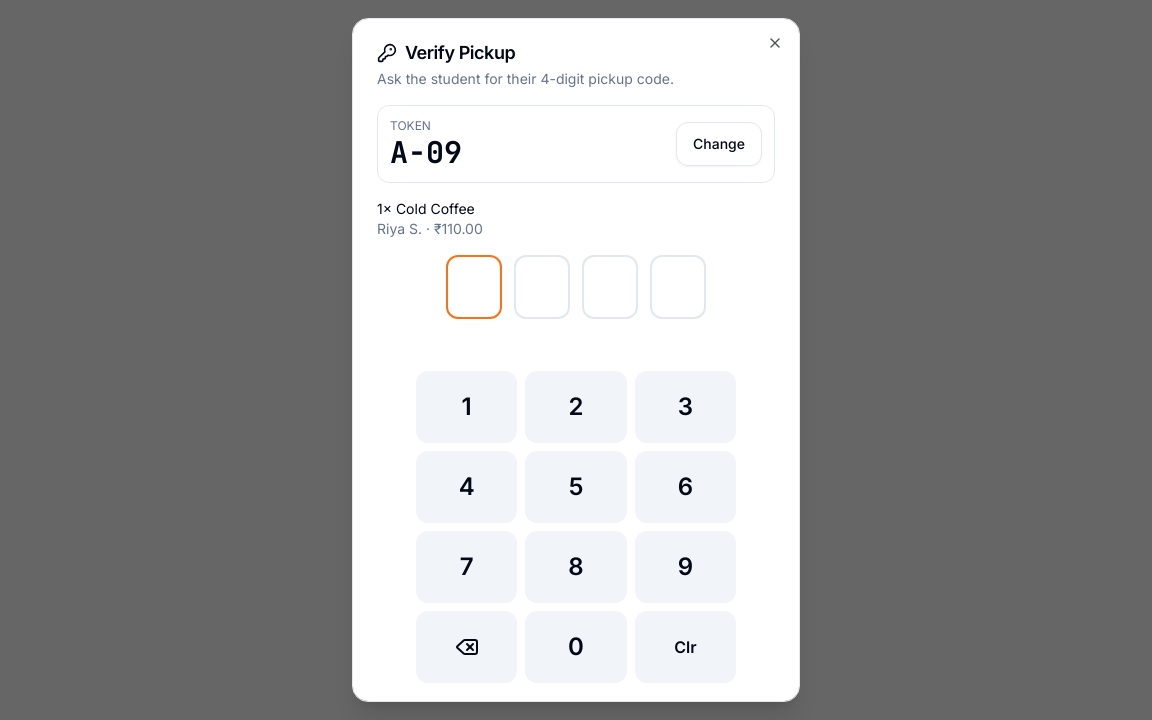
Scenario: PickupVerifyModal › wrong code shows attempts left and clears the boxes
The image size is (1152, 720).
Click the button "1": (467, 407) [416,371,517,443]
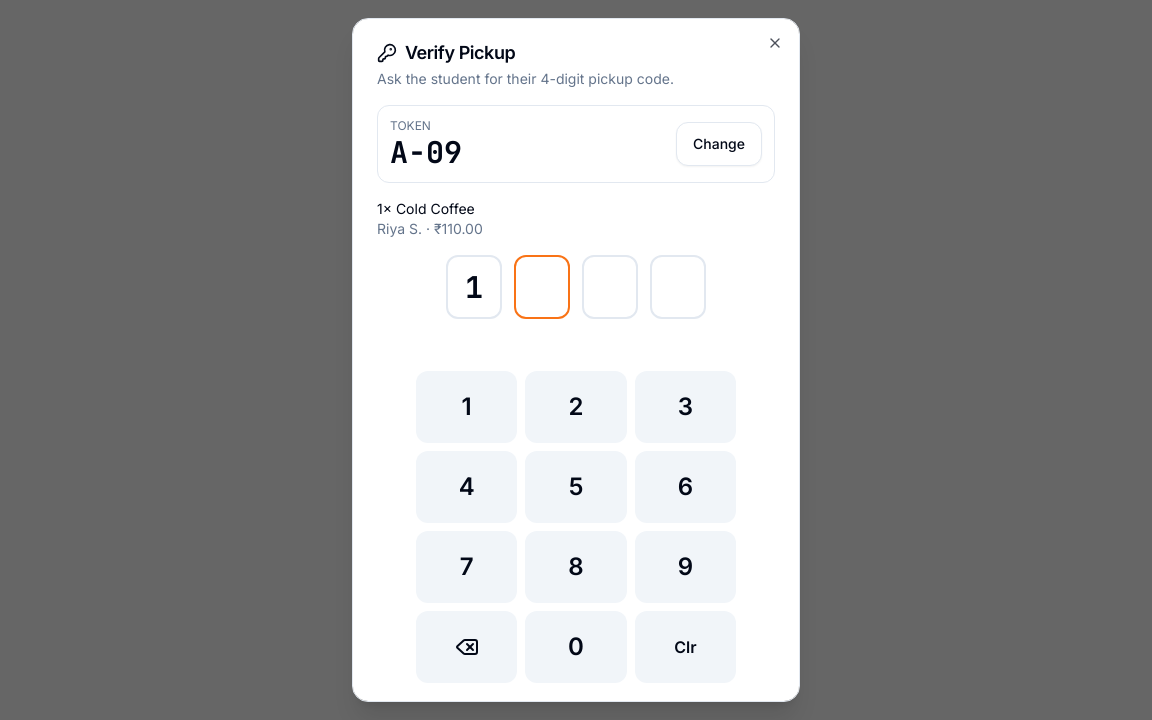
Click the button "1": (467, 407) [416,371,517,443]
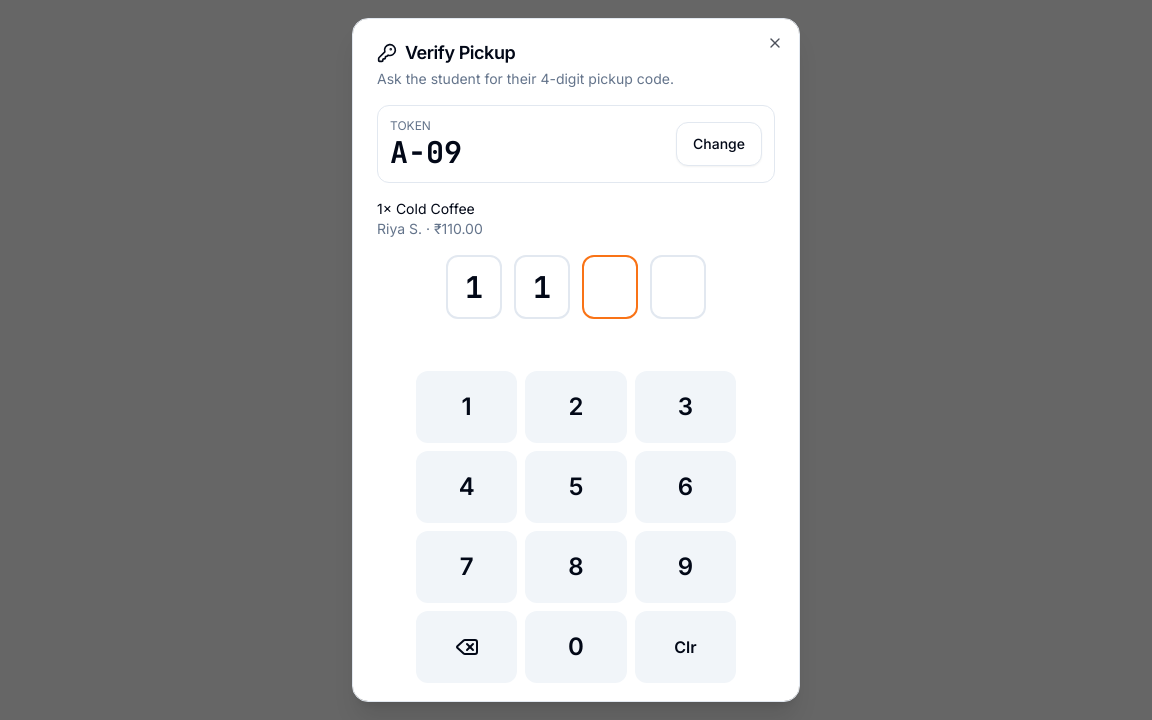
Click the button "1": (467, 407) [416,371,517,443]
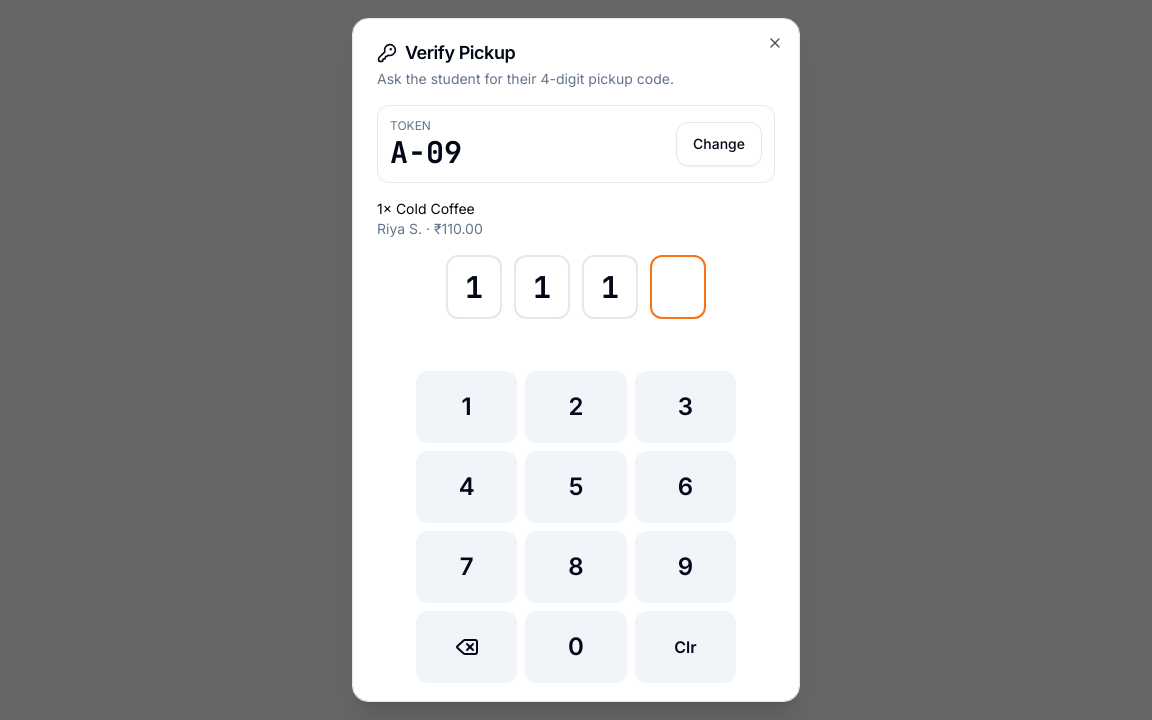
Click the button "1": (467, 407) [416,371,517,443]
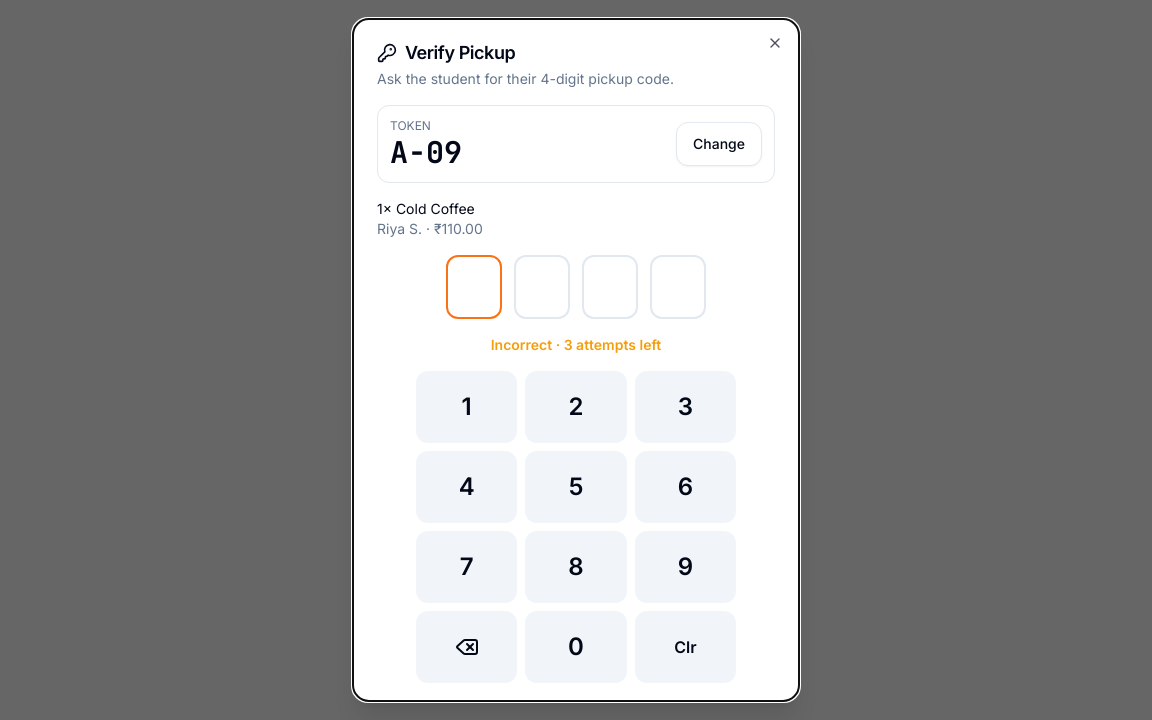
Expected: the text "Incorrect · 3 attempts left" is shown, [491,336,661,353]
